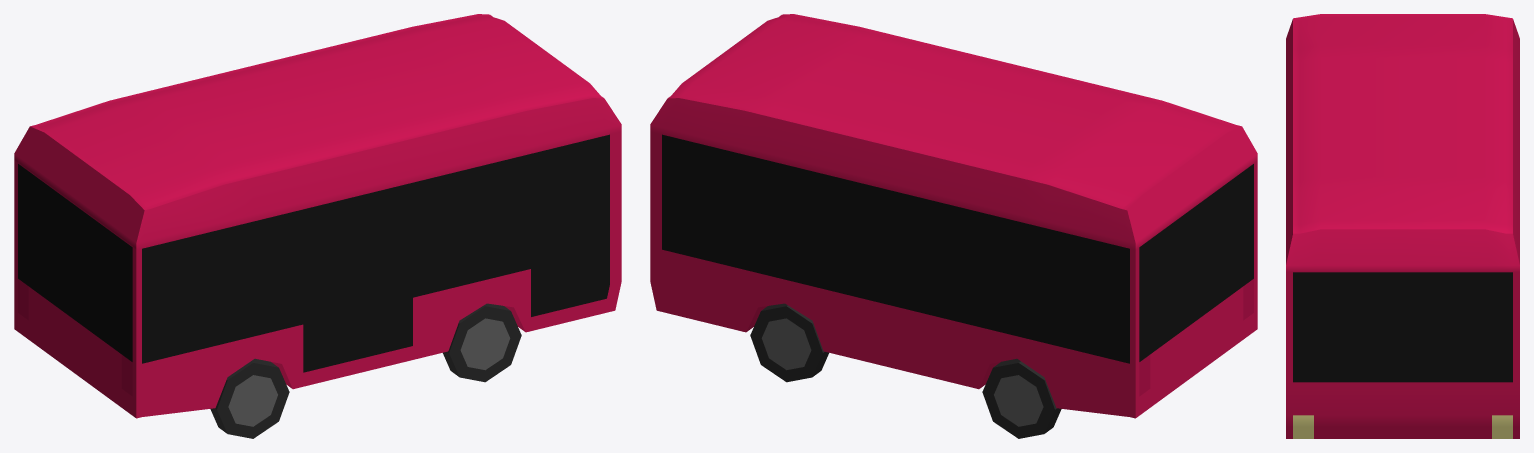
Rendered from Bus_02.fbx.
3 views of the same model, side by side, from view 1: azimuth 30°, elevation 25°; view 2: azimuth 150°, elevation 25°; view 3: azimuth 270°, elevation 25° (orthographic). The views are drawn at different scales.
Visible parts, largest first — view 1: Bus_02; view 2: Bus_02; view 3: Bus_02.
Boxes of the visible parts, x1,y1,x2,y2 form: Bus_02: [14, 14, 621, 438]; Bus_02: [650, 14, 1257, 438]; Bus_02: [1286, 14, 1519, 438].
Bounding box in the file's own units: 500 × 260 × 218.
Materials: 1 (1 with a texture image).
